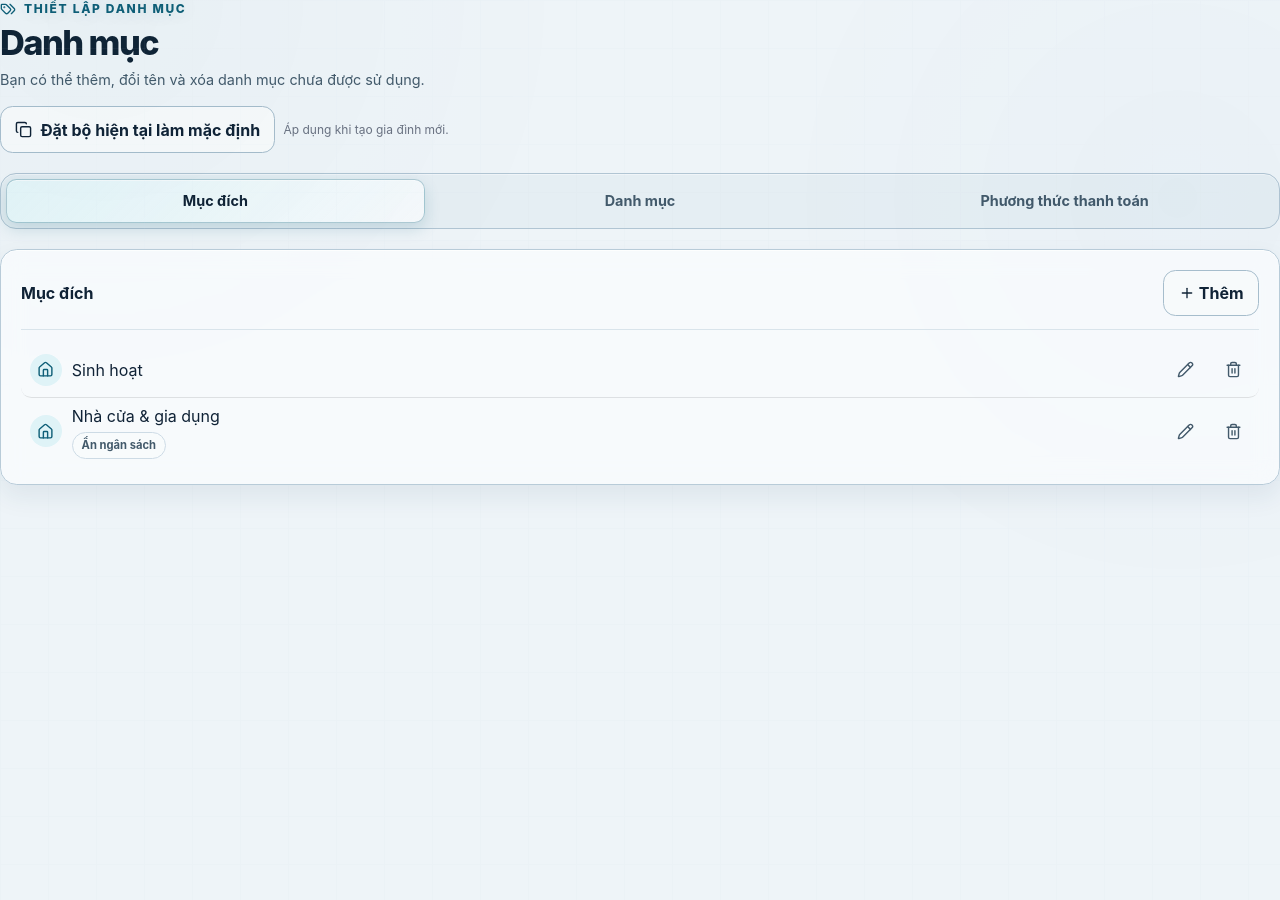
Quản lý danh mục › hiển thị lỗi nghiệp vụ từ database
The image size is (1280, 900).
Click the button named "Xóa Sinh hoạt".
click(1233, 370)  # box [1211,348,1255,392]
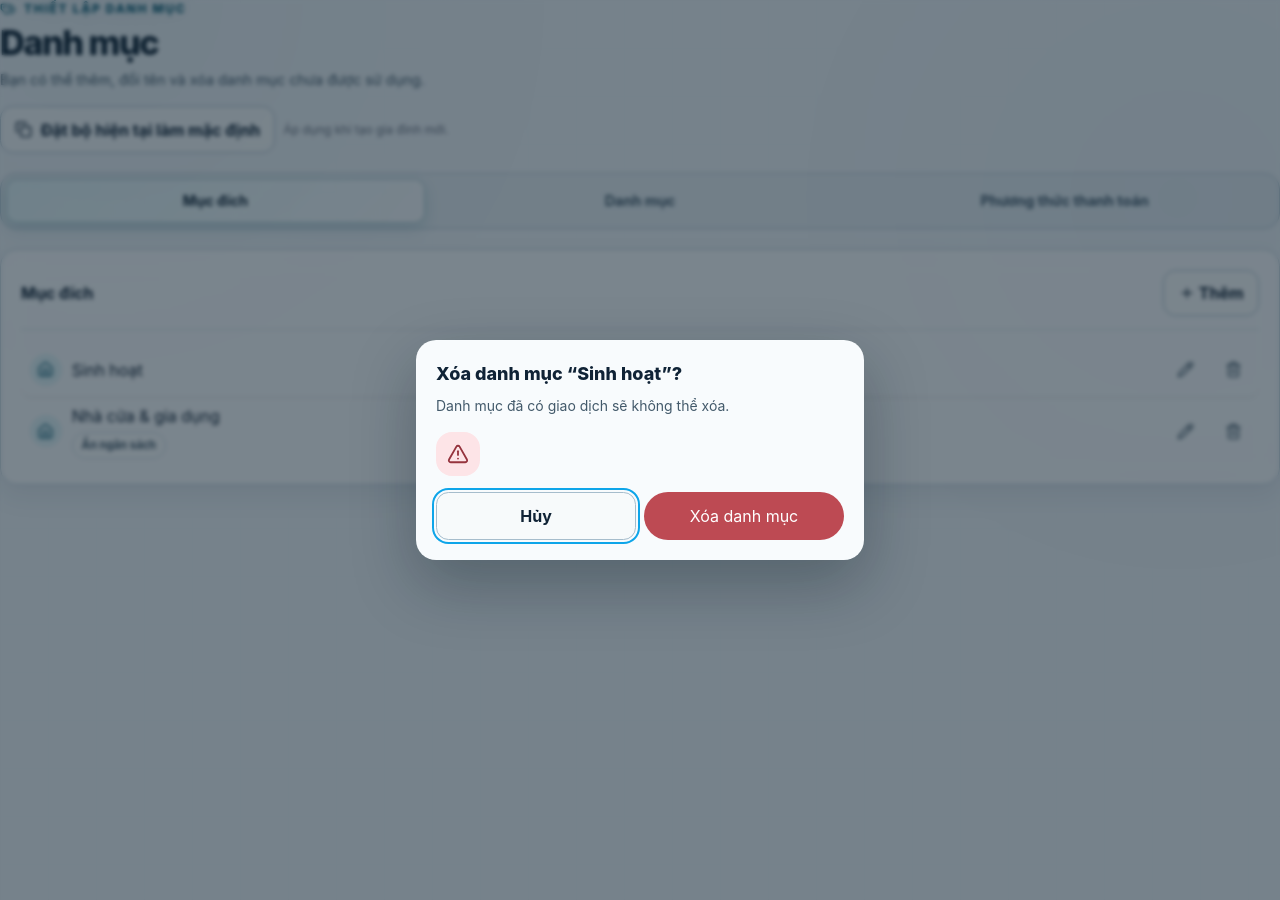
Click the button "Xóa danh mục".
click(744, 516)  # box [644,492,844,540]
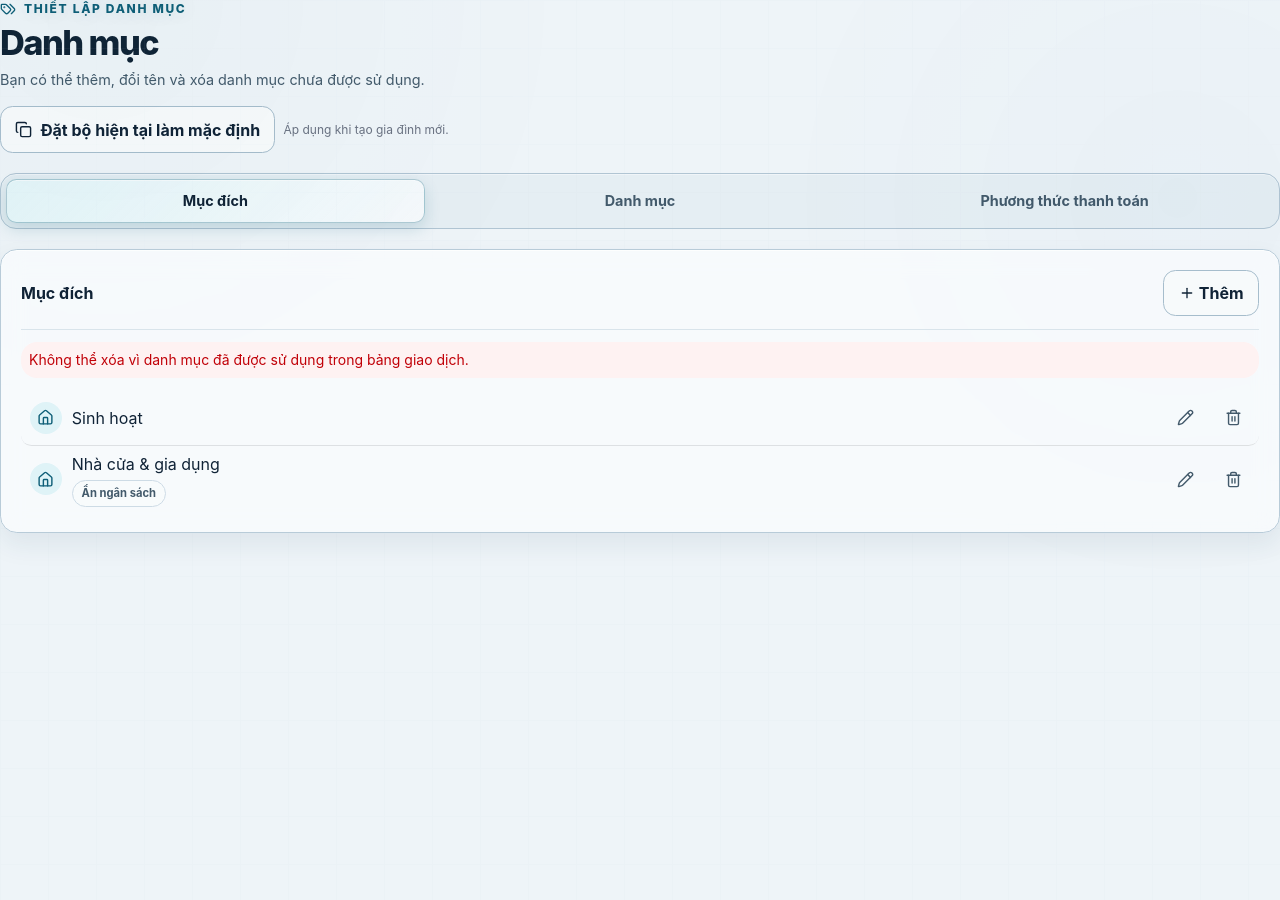
Expected: the message shows "Không thể xóa vì danh mục đã được sử dụng", [29,351,469,368]
